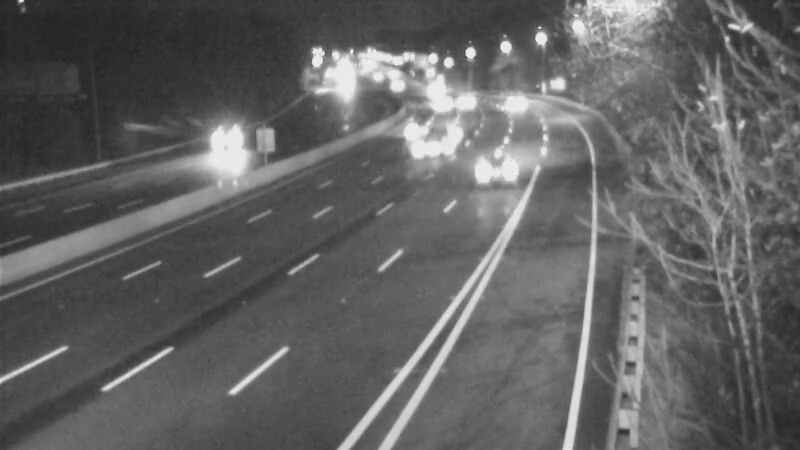vehicle: (462, 121, 542, 201), (193, 111, 273, 191), (412, 76, 462, 126), (438, 76, 488, 126), (488, 75, 538, 125), (385, 92, 435, 142), (406, 112, 456, 162)
